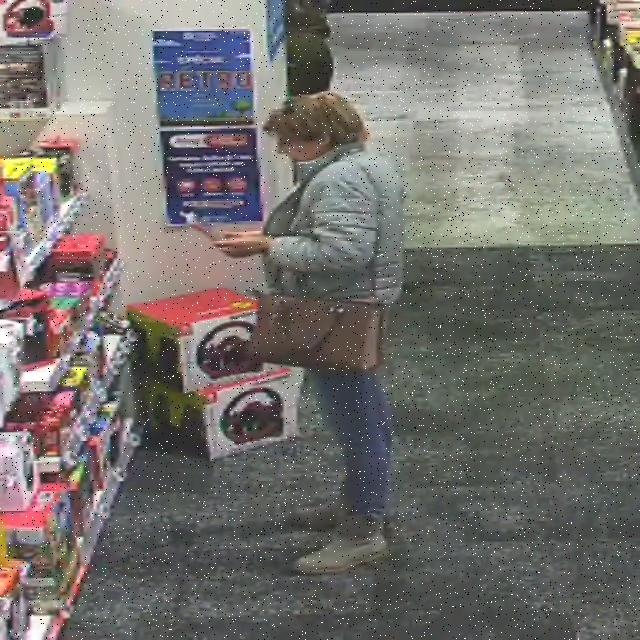article: (183, 213, 218, 241)
bags: (247, 293, 384, 370)
hands: (214, 233, 272, 258)
person: (216, 93, 403, 304)
